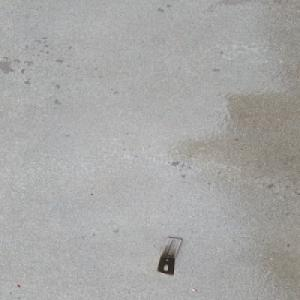MetalPart: (155, 236, 184, 275)
